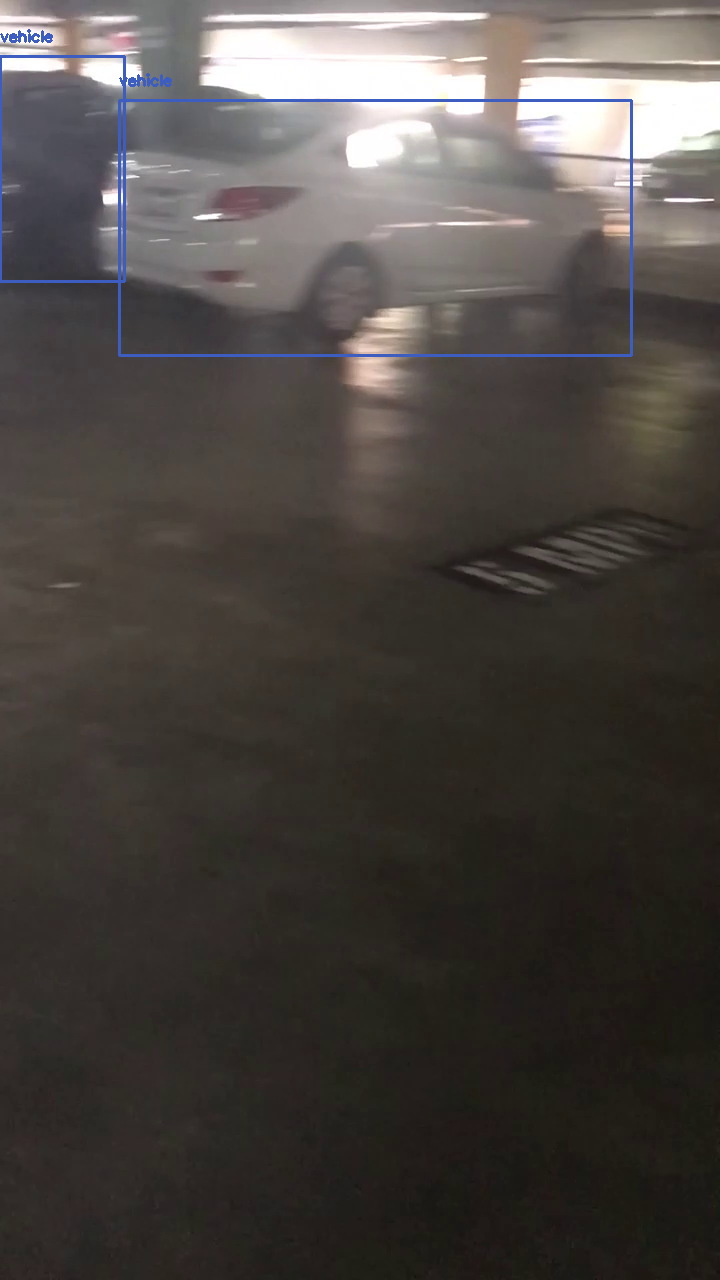vehicle: (119, 100, 631, 355), (0, 56, 124, 281)
